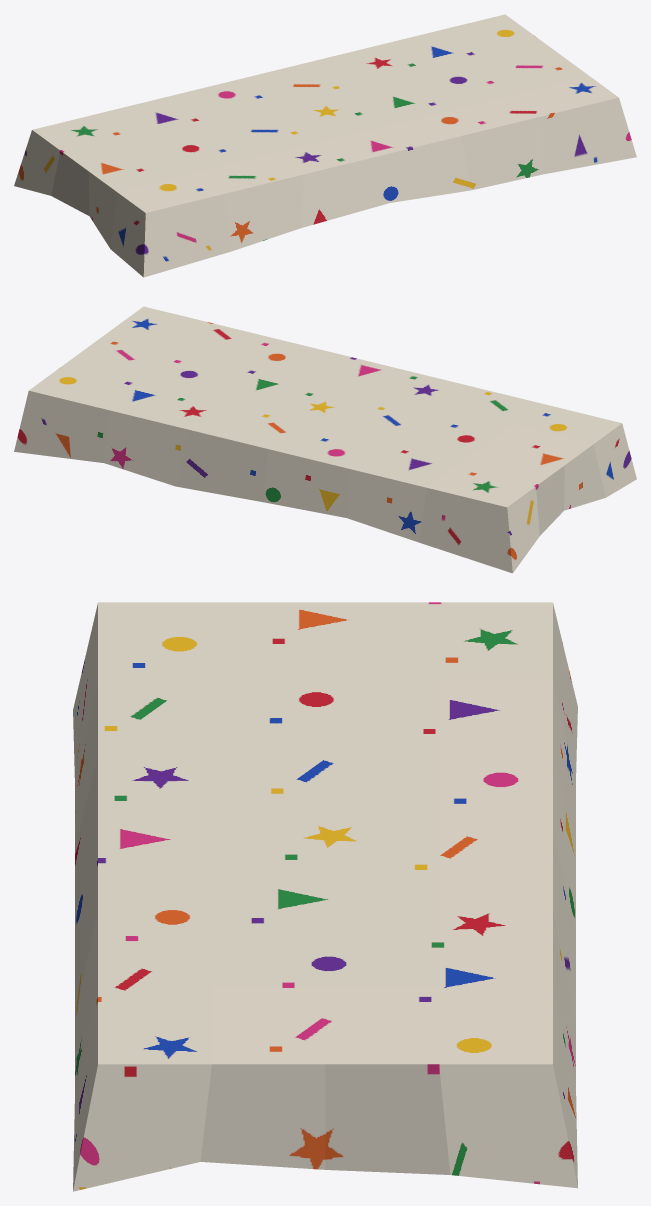
File: party_cloth_rect_confetti.glb
3 views of the same model, one above another, from view 1: azimuth 30°, elevation 25°; view 2: azimuth 150°, elevation 25°; view 3: azimuth 270°, elevation 25° (orthographic). The views are drawn at different scales.
Visible parts, largest first — view 1: party_cloth_rect_confetti_body; view 2: party_cloth_rect_confetti_body; view 3: party_cloth_rect_confetti_body.
Boxes of the visible parts, <box> form: party_cloth_rect_confetti_body: <box>14,14,636,277</box>; party_cloth_rect_confetti_body: <box>14,306,636,573</box>; party_cloth_rect_confetti_body: <box>73,602,577,1191</box>.
Size of the model in its own units: 2.25 by 0.2513 by 0.9893.
1 material, 1 textured.
